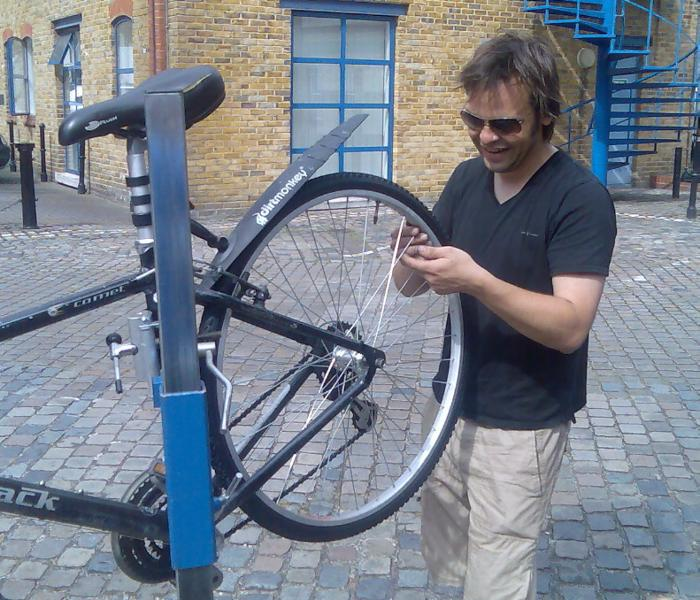person: (388, 31, 623, 600)
